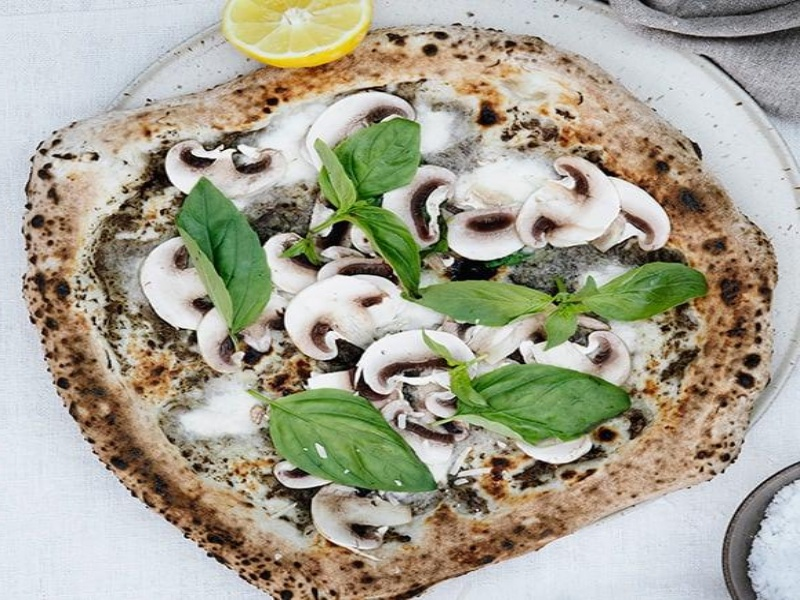champignon: (122, 233, 220, 344), (515, 159, 616, 264), (154, 133, 302, 204), (280, 275, 394, 359), (354, 328, 483, 395), (308, 484, 423, 559), (392, 159, 465, 258)
